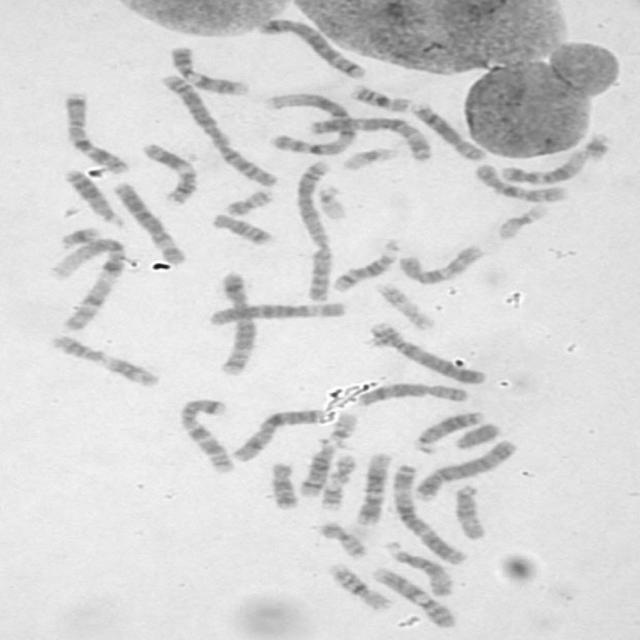A1: (42, 232, 129, 332), (257, 88, 360, 156)
A2: (155, 68, 281, 188), (290, 152, 336, 303)
A3: (384, 458, 470, 566), (301, 112, 437, 162)
B4: (362, 316, 489, 386), (406, 434, 520, 502)
B5: (251, 11, 368, 80), (212, 267, 258, 377)
C10: (467, 158, 571, 204), (391, 239, 487, 286)
C11: (43, 328, 162, 388), (134, 137, 200, 205)
C12: (494, 145, 591, 186), (349, 448, 394, 526)
C6: (106, 177, 188, 266), (202, 296, 350, 327)
C7: (56, 87, 132, 175), (171, 392, 237, 474)
C8: (404, 98, 489, 162), (349, 377, 472, 408)
C9: (365, 562, 461, 630), (162, 40, 252, 96)
D13: (58, 163, 126, 228), (407, 405, 487, 454)
D14: (323, 235, 402, 293), (292, 434, 340, 498)
D15: (378, 536, 456, 598), (447, 479, 489, 540)
E16: (322, 558, 393, 612), (342, 79, 413, 113)
E17: (369, 277, 437, 331), (313, 448, 359, 511)
E18: (204, 207, 276, 247), (262, 456, 300, 511)
F19: (490, 199, 551, 241), (335, 141, 400, 172)
F20: (311, 516, 370, 559), (218, 183, 276, 217)
G21: (52, 221, 103, 249), (578, 128, 614, 162)
G22: (310, 179, 350, 221), (322, 408, 359, 444)
X: (225, 404, 331, 464)
Y: (447, 416, 504, 451)
